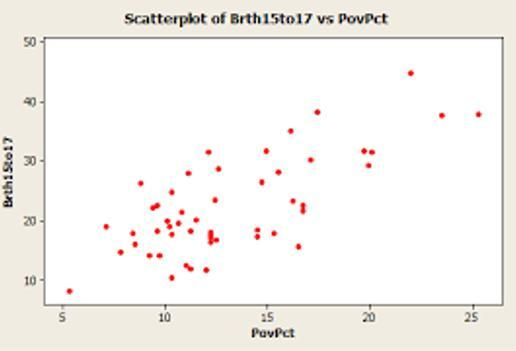axis: (42, 301, 506, 310), (39, 32, 48, 308)
point: (309, 106, 327, 120), (259, 145, 277, 159), (402, 67, 418, 80), (303, 154, 318, 167), (128, 239, 144, 251), (256, 176, 270, 189), (182, 167, 196, 180), (203, 146, 216, 159), (362, 159, 376, 171), (284, 126, 298, 138), (165, 187, 180, 198), (135, 177, 147, 190), (435, 110, 449, 121), (212, 163, 226, 174), (200, 265, 213, 276), (292, 241, 305, 252), (126, 228, 140, 238), (473, 109, 485, 120), (358, 145, 370, 156), (273, 167, 285, 178), (166, 229, 178, 240), (151, 225, 163, 236), (186, 226, 198, 237), (64, 286, 75, 298), (367, 147, 380, 157), (167, 272, 177, 285), (176, 206, 189, 216), (146, 202, 157, 213), (116, 247, 127, 258), (163, 222, 175, 232), (154, 251, 166, 261), (209, 195, 221, 205), (191, 215, 203, 225), (288, 196, 300, 206), (145, 250, 155, 261), (269, 229, 280, 239), (252, 233, 264, 242), (298, 200, 310, 209), (153, 200, 163, 210), (162, 215, 172, 225), (181, 260, 191, 270), (101, 222, 112, 231), (186, 264, 197, 273), (252, 225, 262, 234), (298, 208, 309, 216), (213, 235, 222, 244), (173, 219, 183, 227), (206, 240, 215, 248), (206, 228, 215, 234)
